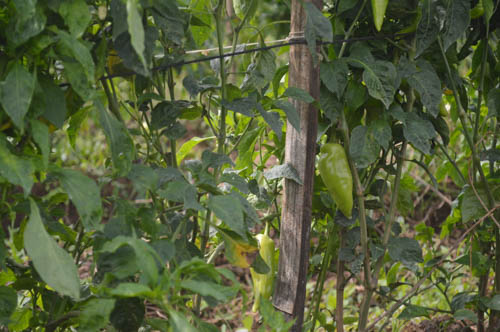ChiliPepper: (318, 144, 357, 219)
